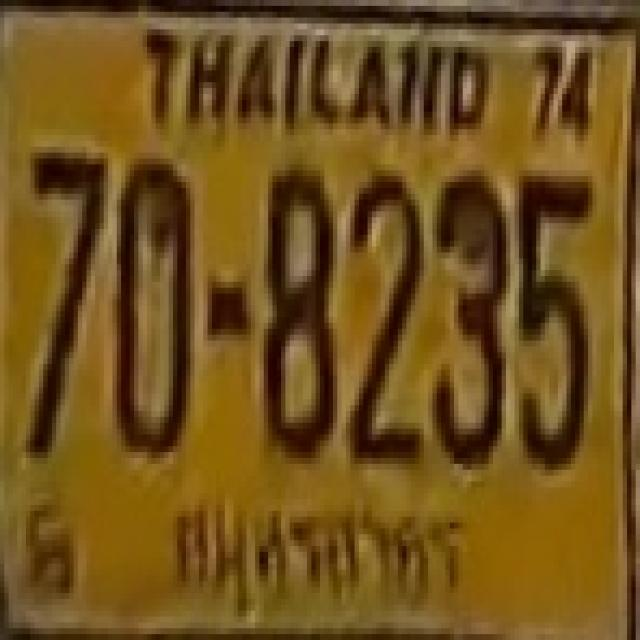0: (112, 153, 190, 446)
2: (348, 168, 422, 432)
3: (428, 167, 506, 461)
5: (515, 170, 588, 464)
7: (30, 147, 104, 434), (30, 147, 104, 364), (30, 147, 104, 340)
8: (259, 162, 333, 449)
SKN: (157, 481, 486, 634)
